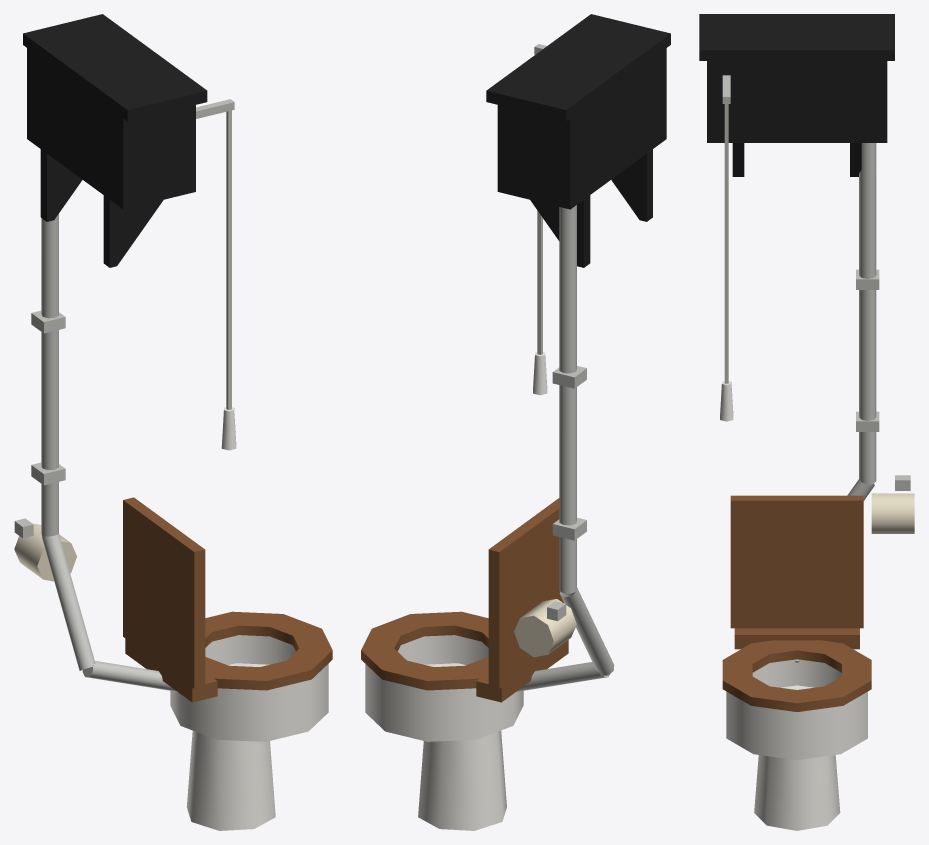
Rendered from parametric-wc-3rd.glb.
3 renders of one model, left to right at view 1: azimuth 30°, elevation 25°; view 2: azimuth 150°, elevation 25°; view 3: azimuth 270°, elevation 25°, orthographic. The views are drawn at different scales.
Visible parts, largest first — view 1: parametric-wc-3rd; view 2: parametric-wc-3rd; view 3: parametric-wc-3rd.
Part boxes in pixels (x1=…): parametric-wc-3rd: x1=14, y1=14, x2=332, y2=830; parametric-wc-3rd: x1=361, y1=14, x2=670, y2=830; parametric-wc-3rd: x1=699, y1=14, x2=914, y2=830.
Bounding box in the file's own units: 0.68 × 2.05 × 0.55.
